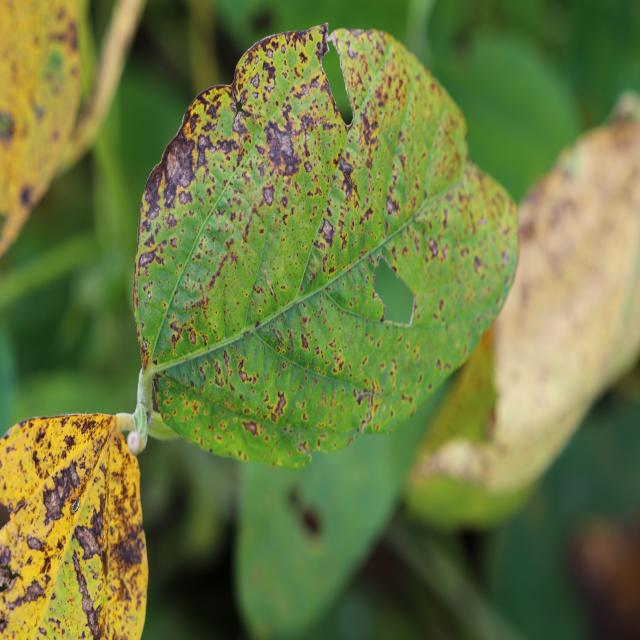Bacterial_Blight: (529, 187, 600, 283), (424, 440, 488, 487), (200, 249, 236, 295), (73, 523, 103, 562), (358, 101, 382, 148), (609, 116, 637, 152), (42, 486, 66, 522), (195, 132, 216, 171), (283, 28, 312, 54), (317, 220, 340, 251), (235, 355, 257, 384), (23, 579, 47, 603), (483, 403, 499, 439), (85, 605, 101, 638), (0, 111, 15, 145), (168, 320, 186, 347), (111, 578, 130, 603), (301, 508, 319, 534), (232, 109, 248, 135), (67, 462, 82, 489), (0, 545, 14, 573), (262, 60, 277, 86), (48, 49, 64, 73), (273, 391, 287, 417), (263, 275, 277, 301), (151, 378, 161, 413), (222, 350, 234, 379), (354, 387, 371, 407), (26, 533, 44, 551), (34, 424, 48, 447), (372, 290, 385, 313), (386, 195, 400, 216), (139, 250, 155, 268), (80, 418, 96, 436), (146, 202, 161, 221), (427, 236, 439, 258), (262, 186, 275, 206), (47, 617, 62, 634), (296, 439, 310, 457), (242, 421, 258, 436), (20, 186, 32, 205), (32, 449, 42, 470), (473, 254, 484, 273), (178, 189, 191, 205), (63, 433, 76, 449), (500, 249, 510, 268), (347, 42, 358, 59), (14, 499, 26, 514), (250, 72, 260, 89), (300, 333, 310, 350), (166, 213, 177, 228), (299, 84, 309, 97), (309, 78, 320, 89), (0, 615, 8, 630), (38, 626, 48, 637), (3, 428, 12, 440), (304, 161, 312, 173), (142, 339, 149, 352), (240, 93, 247, 106), (266, 48, 273, 59), (304, 132, 311, 142), (147, 291, 152, 299), (325, 279, 328, 284)
Soybean: (134, 24, 518, 469)
